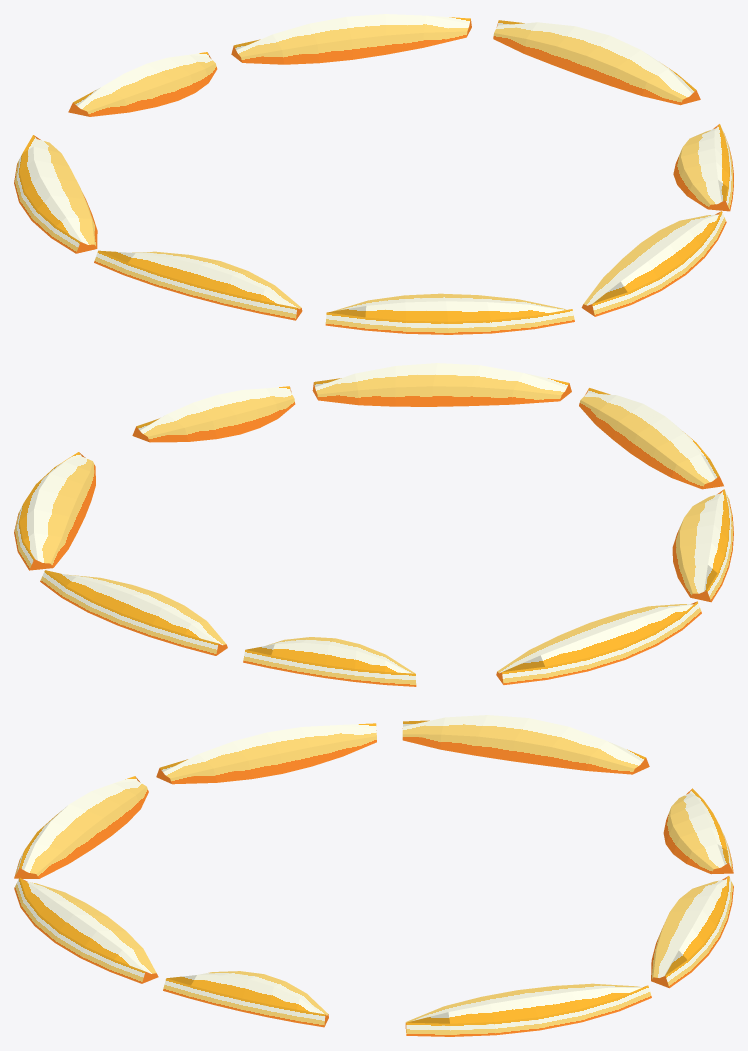
Rendered from impacto_chao_anel.glb.
3 views of the same model, one above another, from view 1: azimuth 30°, elevation 25°; view 2: azimuth 150°, elevation 25°; view 3: azimuth 270°, elevation 25° (orthographic).
Visible parts, largest first — view 1: arco_02, arco_01, arco_06, arco_05, arco_07, arco_04, arco_03, arco_08; view 2: arco_07, arco_04, arco_02, arco_06, arco_01, arco_08, arco_03, arco_05; view 3: arco_04, arco_01, arco_05, arco_07, arco_06, arco_02, arco_08, arco_03.
Part boxes in pixels (<box>): arco_02: <box>231,14,471,64</box>; arco_01: <box>493,20,700,105</box>; arco_06: <box>325,293,574,334</box>; arco_05: <box>94,250,302,320</box>; arco_07: <box>581,211,726,316</box>; arco_04: <box>14,135,97,253</box>; arco_03: <box>68,52,217,116</box>; arco_08: <box>673,124,733,211</box>; arco_07: <box>312,363,571,406</box>; arco_04: <box>496,601,701,684</box>; arco_02: <box>40,570,227,655</box>; arco_06: <box>579,388,723,489</box>; arco_01: <box>14,452,95,570</box>; arco_08: <box>132,386,295,442</box>; arco_03: <box>243,637,416,686</box>; arco_05: <box>672,489,733,602</box>; arco_04: <box>402,715,649,774</box>; arco_01: <box>405,983,651,1036</box>; arco_05: <box>156,723,376,784</box>; arco_07: <box>14,877,158,983</box>; arco_06: <box>14,776,148,878</box>; arco_02: <box>651,876,733,988</box>; arco_08: <box>163,971,328,1027</box>; arco_03: <box>663,788,733,874</box>.
Size of the model in its own units: 2.11 by 0.08 by 2.08.
1 material, 1 textured.
